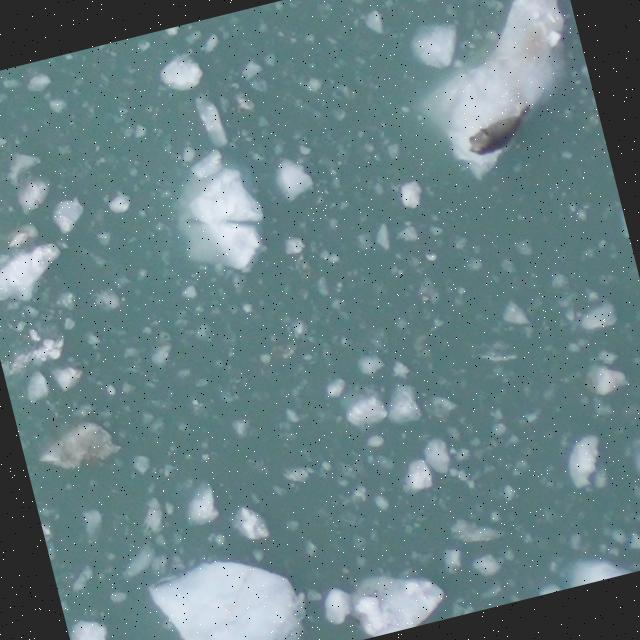seal: (458, 100, 544, 161)
